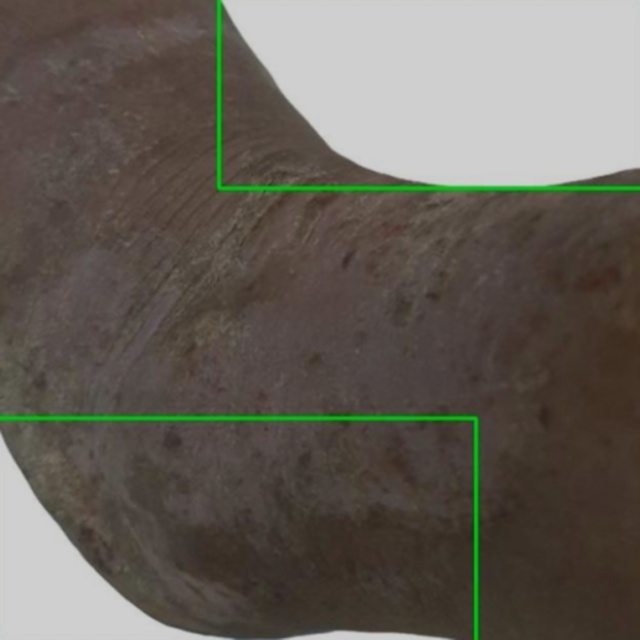Eczema: (0, 418, 475, 639), (218, 0, 639, 188)
